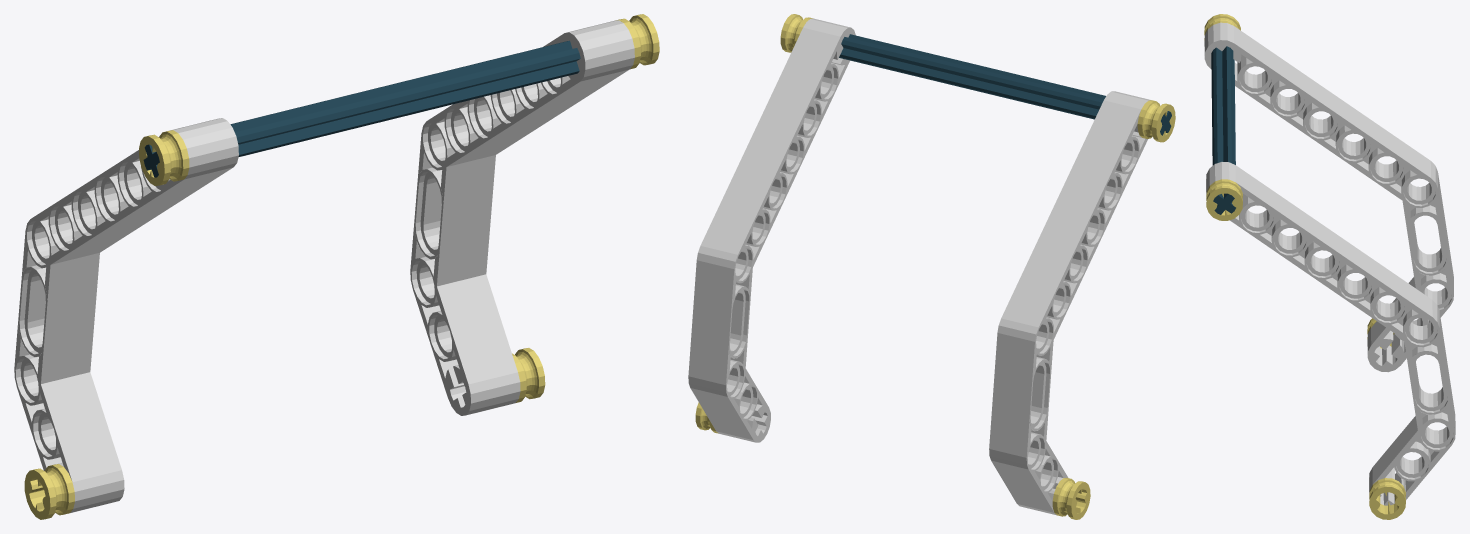
File: Arm.dae
The picture shows the model from 3 angles, left to right: view 1: azimuth 30°, elevation 25°; view 2: azimuth 150°, elevation 25°; view 3: azimuth 270°, elevation 25°; orthographic projection. The views are drawn at different scales.
Visible parts, largest first — view 1: Piece141; view 2: Piece141; view 3: Piece141.
Boxes of the visible parts, <box> form: Piece141: <box>14,14,659,519</box>; Piece141: <box>688,14,1175,519</box>; Piece141: <box>1204,14,1455,519</box>.
Bounding box in the file's own units: 0.0802 × 0.0488 × 0.0713.
